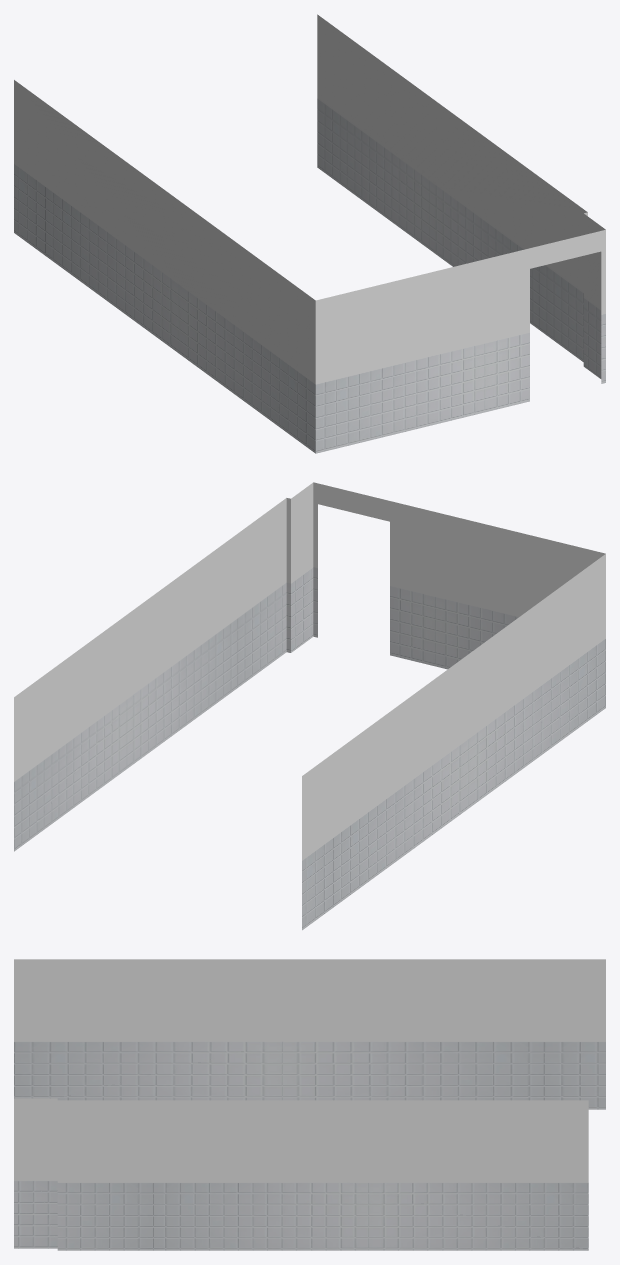
The model's file is paredessalalab3.fbx.
3 renders of one model, top to bottom at view 1: azimuth 30°, elevation 25°; view 2: azimuth 150°, elevation 25°; view 3: azimuth 270°, elevation 25°, orthographic. The views are drawn at different scales.
Visible parts, largest first — view 1: parede informatica T 03.002; view 2: parede informatica T 03.002; view 3: parede informatica T 03.002.
Boxes of the visible parts, left/top/right/bottom form: parede informatica T 03.002: left=14, top=14, right=605, bottom=453; parede informatica T 03.002: left=14, top=482, right=605, bottom=930; parede informatica T 03.002: left=14, top=959, right=605, bottom=1250.
Size of the model in its own units: 5.93 by 2.95 by 10.52.
Materials: 1 (1 with a texture image).
